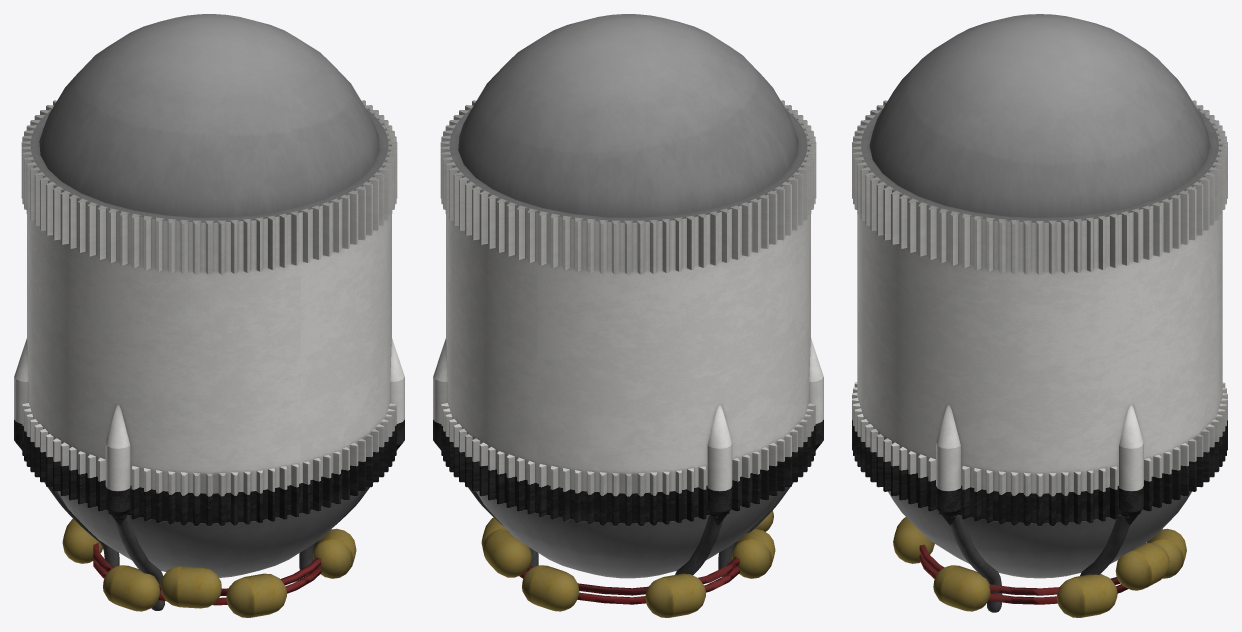
The model's file is ksprocket.fbx.
3 views of the same model, side by side, from view 1: azimuth 30°, elevation 25°; view 2: azimuth 150°, elevation 25°; view 3: azimuth 270°, elevation 25° (orthographic).
Visible parts, largest first — view 1: tank.008, bits.006; view 2: tank.008, bits.006; view 3: tank.008, bits.006.
Boxes of the visible parts, bbox=[...] form: tank.008: bbox=[21, 100, 397, 526]; bits.006: bbox=[14, 14, 404, 617]; tank.008: bbox=[440, 100, 816, 526]; bits.006: bbox=[433, 14, 823, 617]; tank.008: bbox=[852, 100, 1227, 526]; bits.006: bbox=[857, 14, 1222, 617].
Bounding box in the file's own units: 680 × 1087 × 680.
